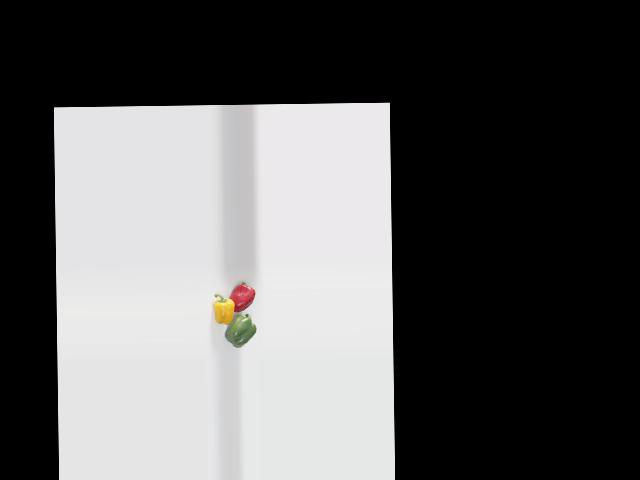bell_pepper: (210, 293, 239, 325)
